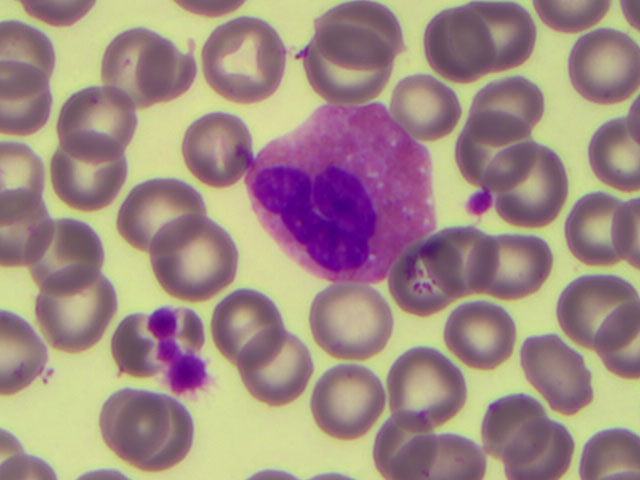Platelets: (157, 340, 210, 394), (148, 307, 176, 337), (468, 192, 490, 218)
RBC: (204, 21, 285, 101), (154, 219, 234, 296), (312, 284, 391, 361), (121, 179, 203, 252), (59, 91, 136, 168), (306, 31, 389, 102), (390, 240, 468, 315), (494, 149, 569, 224), (244, 324, 309, 407), (460, 113, 533, 186), (520, 337, 590, 413), (318, 4, 402, 67), (560, 277, 640, 343), (119, 396, 191, 469), (388, 354, 462, 425), (571, 29, 640, 105), (41, 273, 108, 351), (54, 137, 124, 209), (104, 32, 177, 101), (427, 229, 501, 297), (217, 293, 283, 369), (474, 233, 550, 299), (568, 191, 633, 268), (460, 2, 531, 72), (313, 363, 378, 438), (28, 224, 99, 291), (101, 389, 167, 459), (423, 12, 492, 78), (475, 80, 548, 142), (484, 395, 548, 463), (395, 76, 460, 140), (376, 411, 436, 480), (394, 435, 485, 480), (450, 304, 517, 364), (189, 118, 247, 185), (1, 194, 53, 267), (140, 40, 197, 105), (508, 420, 569, 480), (1, 58, 48, 134), (595, 299, 640, 378), (1, 21, 47, 97), (1, 312, 42, 397), (589, 119, 640, 186), (1, 144, 40, 214), (609, 196, 640, 266), (536, 1, 604, 32), (23, 1, 101, 26), (1, 452, 60, 480)
WBC: (252, 112, 430, 281)
